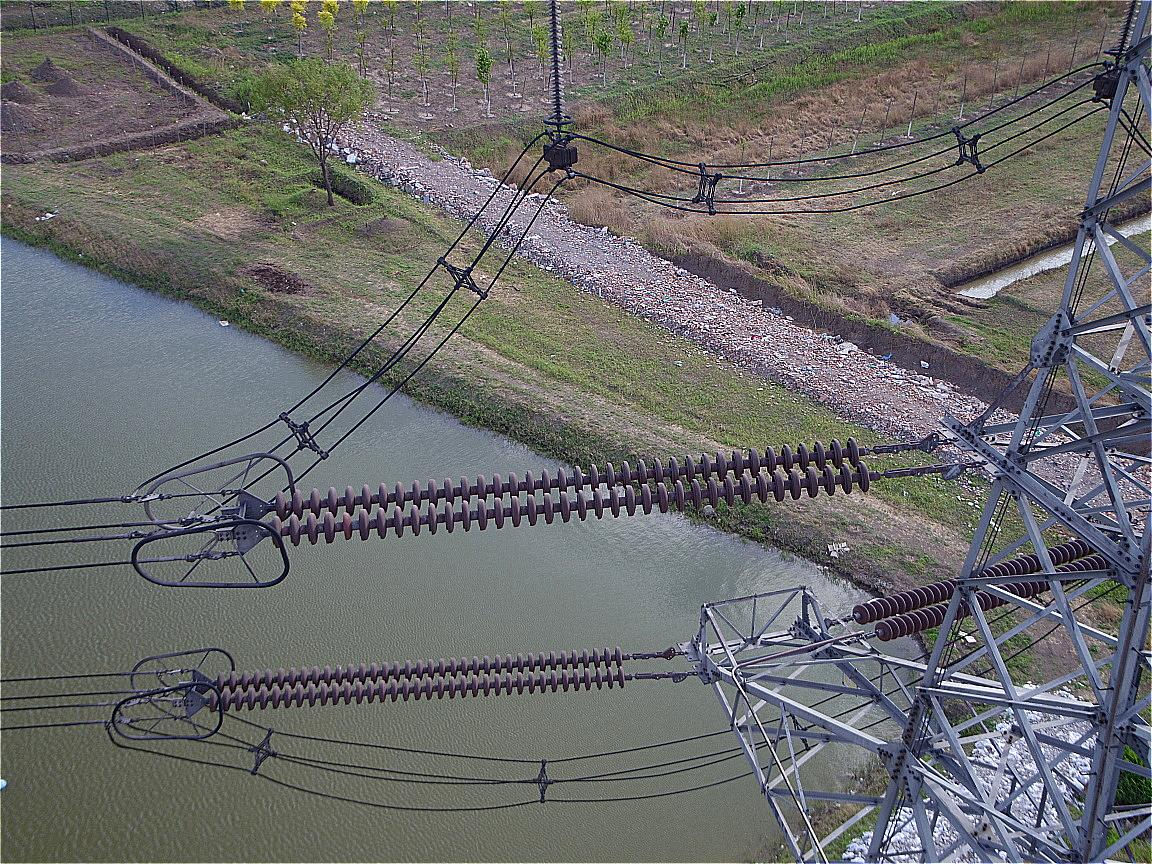insultor1: (257, 436, 892, 553), (201, 641, 639, 715)
